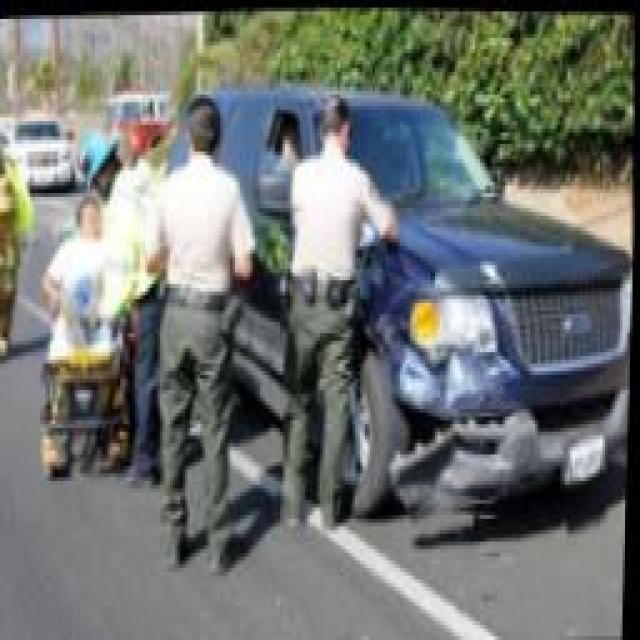Fender: (357, 248, 526, 403)
